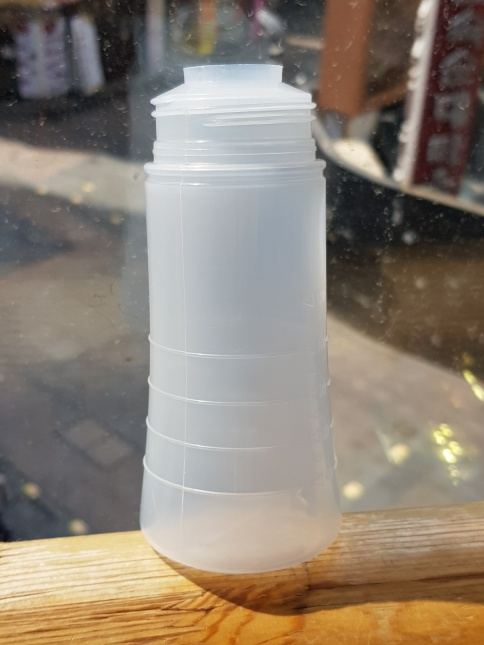Plastic: (133, 56, 345, 582)
